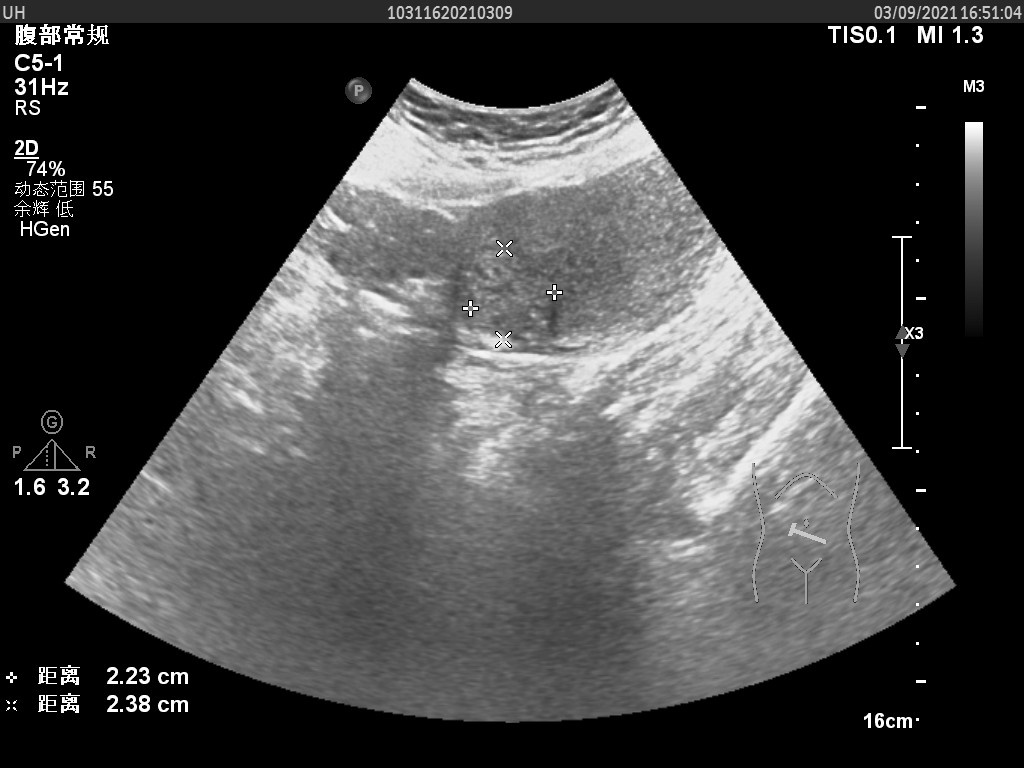肌瘤: (464, 261, 551, 342)
